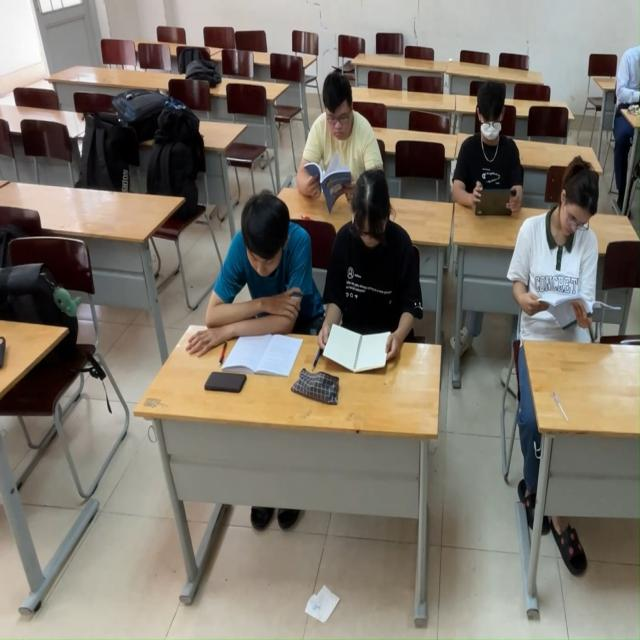read: (198, 185, 330, 392), (518, 152, 634, 367), (327, 170, 420, 402), (297, 67, 379, 207), (452, 88, 531, 225)
